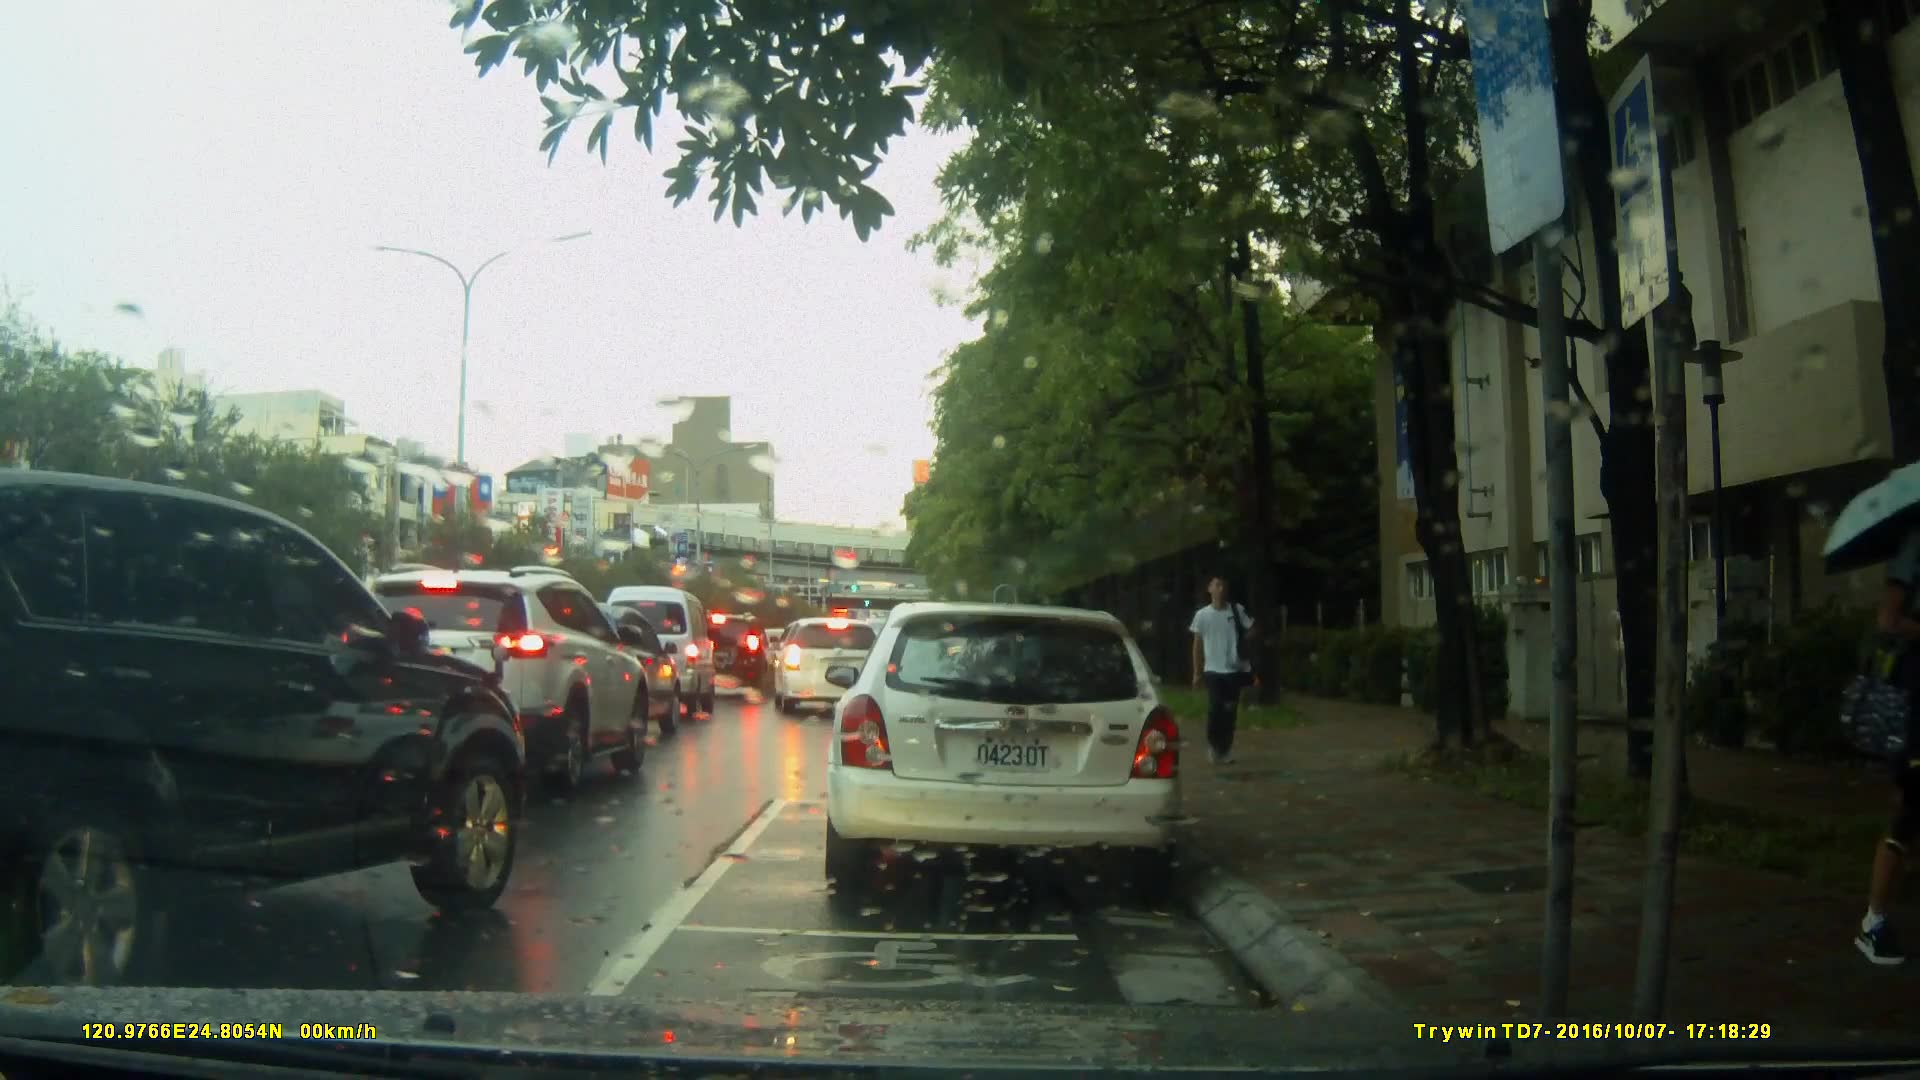pedestrian: (1834, 474, 1909, 969), (1185, 568, 1263, 783)
vehicle: (1, 468, 531, 988), (820, 602, 1188, 898), (335, 563, 658, 791), (526, 603, 689, 738), (596, 585, 721, 722), (772, 617, 892, 716), (684, 612, 771, 696)
